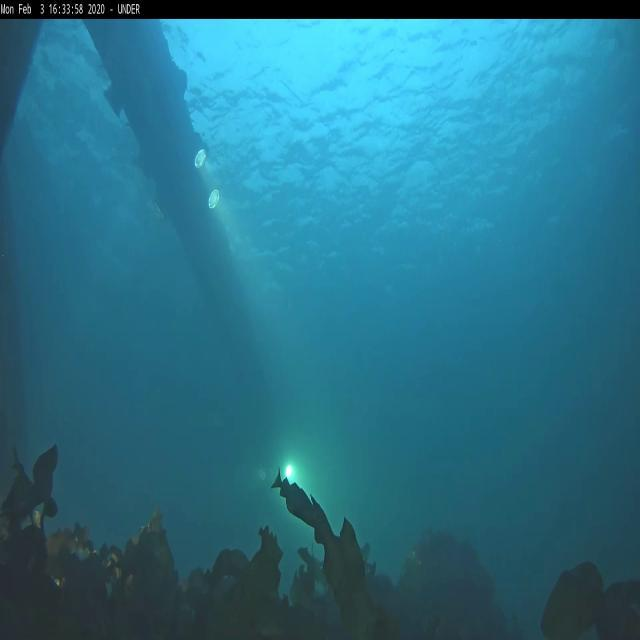fish: (268, 466, 312, 525)
